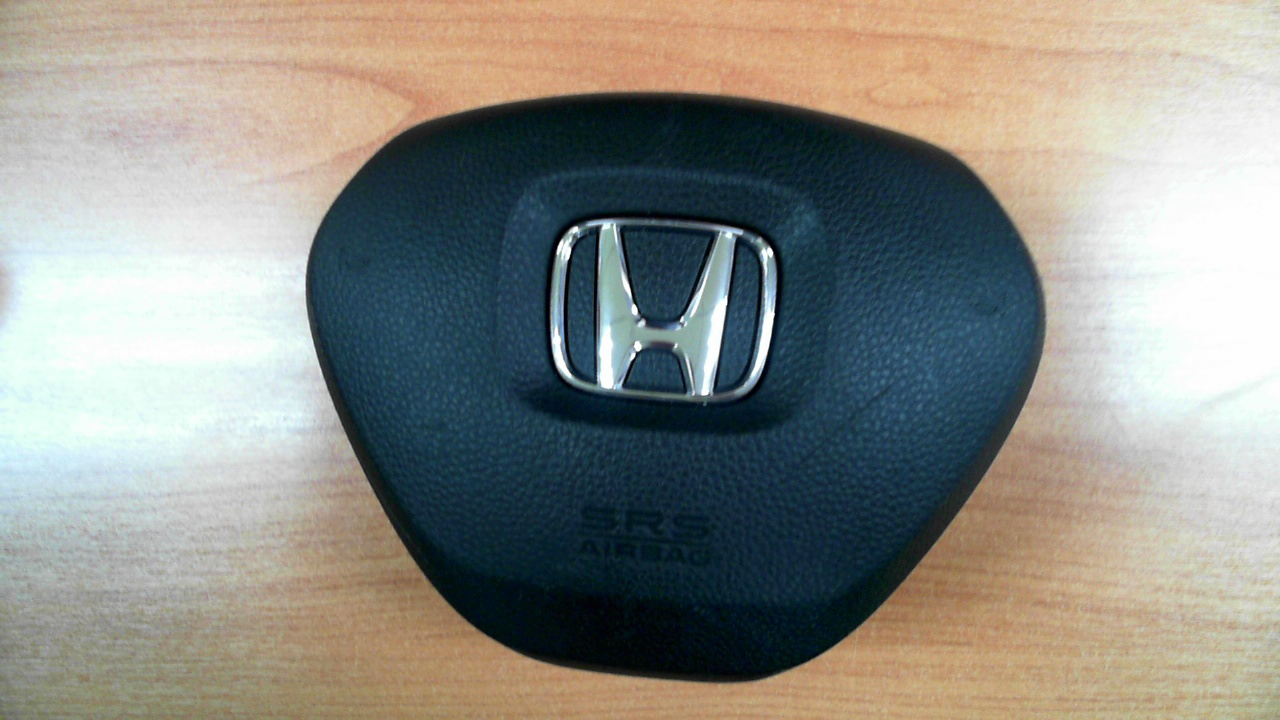Airbag: (305, 91, 1048, 685)
Honda: (549, 217, 778, 406)
